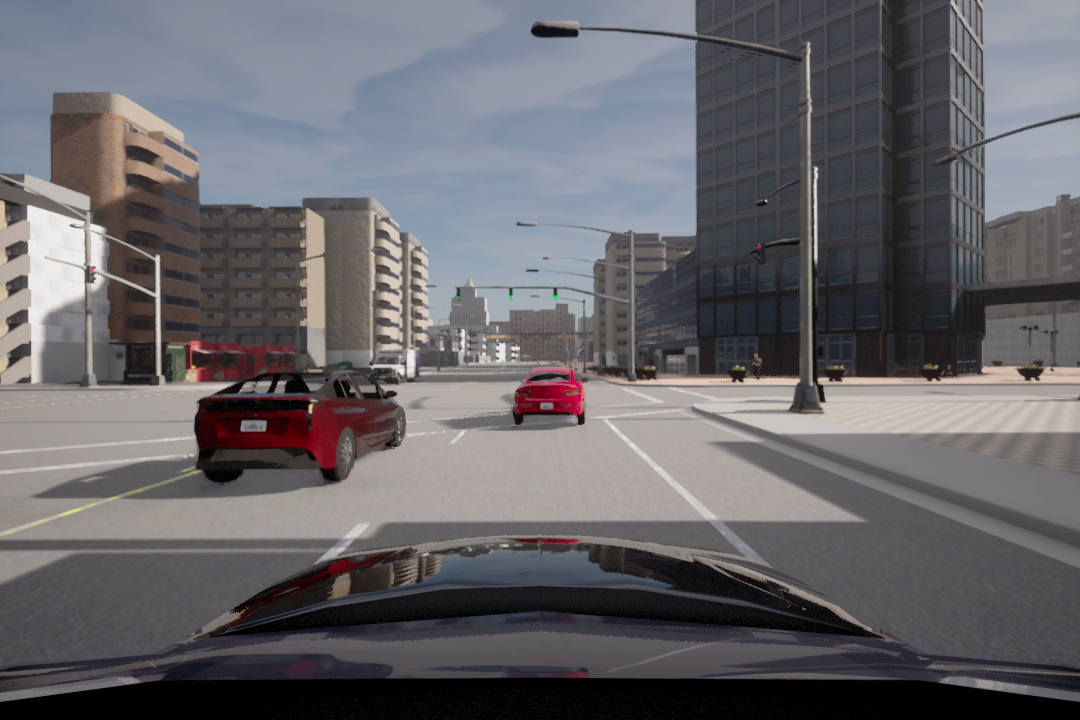TrafficLight: (83, 264, 97, 286), (753, 239, 765, 262), (455, 285, 462, 301), (508, 287, 514, 301), (553, 286, 559, 300)
